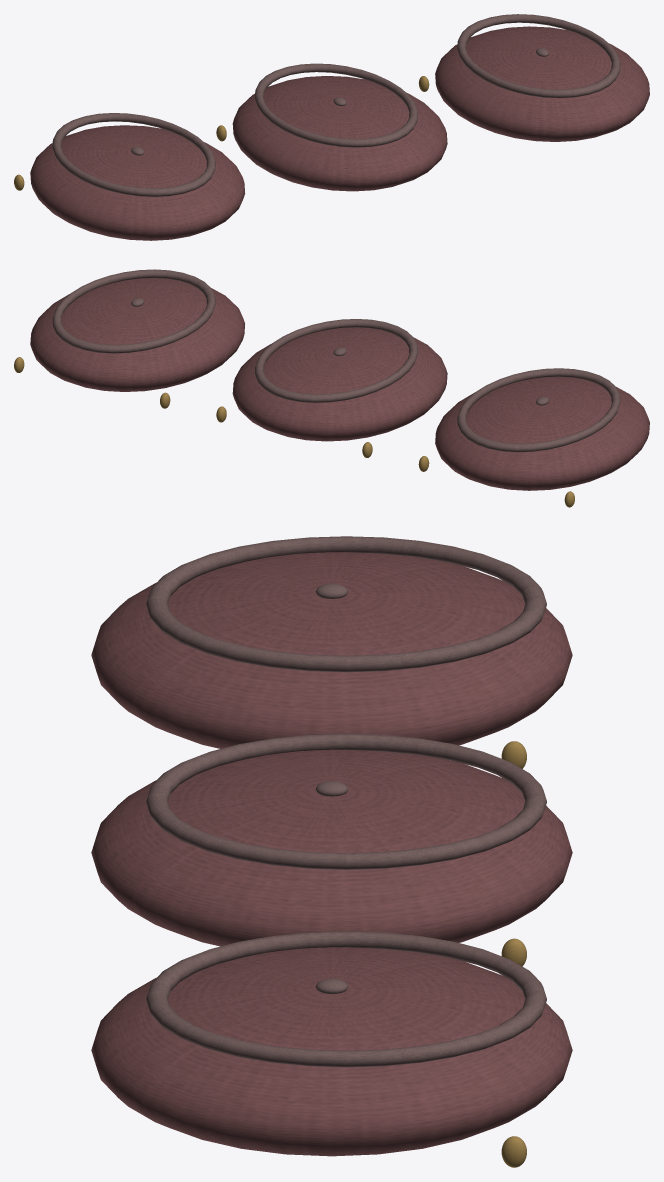
File: kneeling_cushions.glb
3 views of the same model, one above another, from view 1: azimuth 30°, elevation 25°; view 2: azimuth 150°, elevation 25°; view 3: azimuth 270°, elevation 25° (orthographic). The views are drawn at different scales.
Parts seen in each view (by area): view 1: kneeling_cushions; view 2: kneeling_cushions; view 3: kneeling_cushions.
Part boxes in pixels (x1,y1,x2,y2): kneeling_cushions: (14, 14, 649, 240); kneeling_cushions: (14, 269, 649, 507); kneeling_cushions: (91, 536, 572, 1167).
Size of the model in its own units: 2.8 by 0.3 by 1.
Materials: 1 (1 with a texture image).
